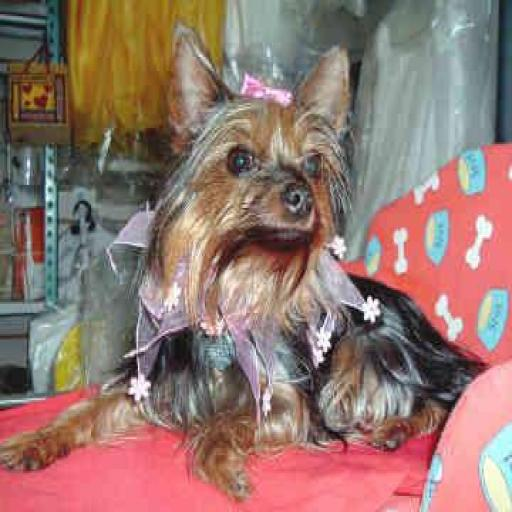dog_face: (162, 30, 350, 292)
